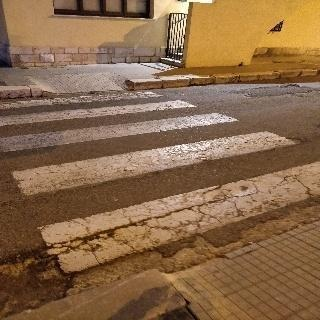road_crosswalk: (3, 91, 309, 285)
